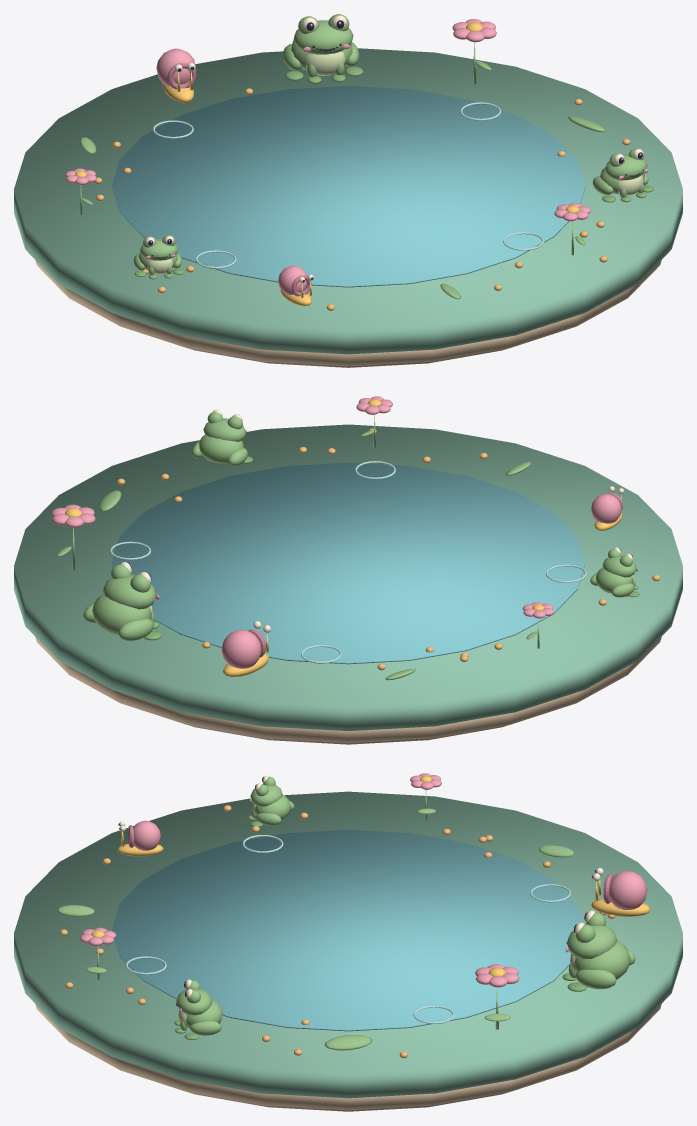
File: world.glb
3 renders of one model, top to bottom at view 1: azimuth 30°, elevation 25°; view 2: azimuth 150°, elevation 25°; view 3: azimuth 270°, elevation 25°, orthographic.
Visible parts, largest first — view 1: Cone, Cone.003, Cone.001, frog.001, frog.003, snail.001, frog.002, snail.002, flower.001, flower.003, Cone.002; view 2: Cone, Cone.003, Cone.001, frog.001, frog.003, snail.001, frog.002, snail.002, flower.001, flower.003, Cone.002, flower.002; view 3: Cone, Cone.003, Cone.001, frog.001, snail.001, frog.003, frog.002, snail.002, flower.001, flower.003, leaf.001, Cone.002 (+1 smaller).
Part boxes in pixels (x1,y1,x2,y2): Cone: (14, 48, 682, 354); Cone.003: (111, 86, 585, 287); Cone.001: (35, 260, 661, 366); frog.001: (283, 14, 363, 83); frog.003: (592, 148, 653, 202); snail.001: (156, 48, 196, 102); frog.002: (133, 235, 184, 279); snail.002: (278, 265, 313, 305); flower.001: (452, 19, 496, 84); flower.003: (554, 203, 590, 255); Cone.002: (189, 348, 507, 367); Cone: (14, 424, 682, 731); Cone.003: (111, 462, 585, 664); Cone.001: (35, 636, 661, 743); frog.001: (83, 562, 162, 640); frog.003: (191, 409, 252, 466); snail.001: (221, 621, 270, 676); frog.002: (590, 547, 639, 597); snail.002: (591, 486, 623, 530); flower.001: (51, 504, 95, 570); flower.003: (356, 396, 392, 448); Cone.002: (189, 725, 507, 744); flower.002: (522, 602, 554, 648); Cone: (14, 791, 682, 1098); Cone.003: (111, 829, 582, 1031); Cone.001: (35, 1004, 661, 1110); frog.001: (562, 910, 635, 991); snail.001: (591, 867, 650, 916); frog.003: (174, 979, 222, 1039); frog.002: (248, 775, 294, 826); snail.002: (117, 820, 163, 856); flower.001: (475, 964, 519, 1029); flower.003: (80, 927, 116, 979); leaf.001: (324, 1035, 371, 1050); Cone.002: (189, 1092, 507, 1111).
Size of the model in its own units: 9.6 by 1.75 by 9.6.
